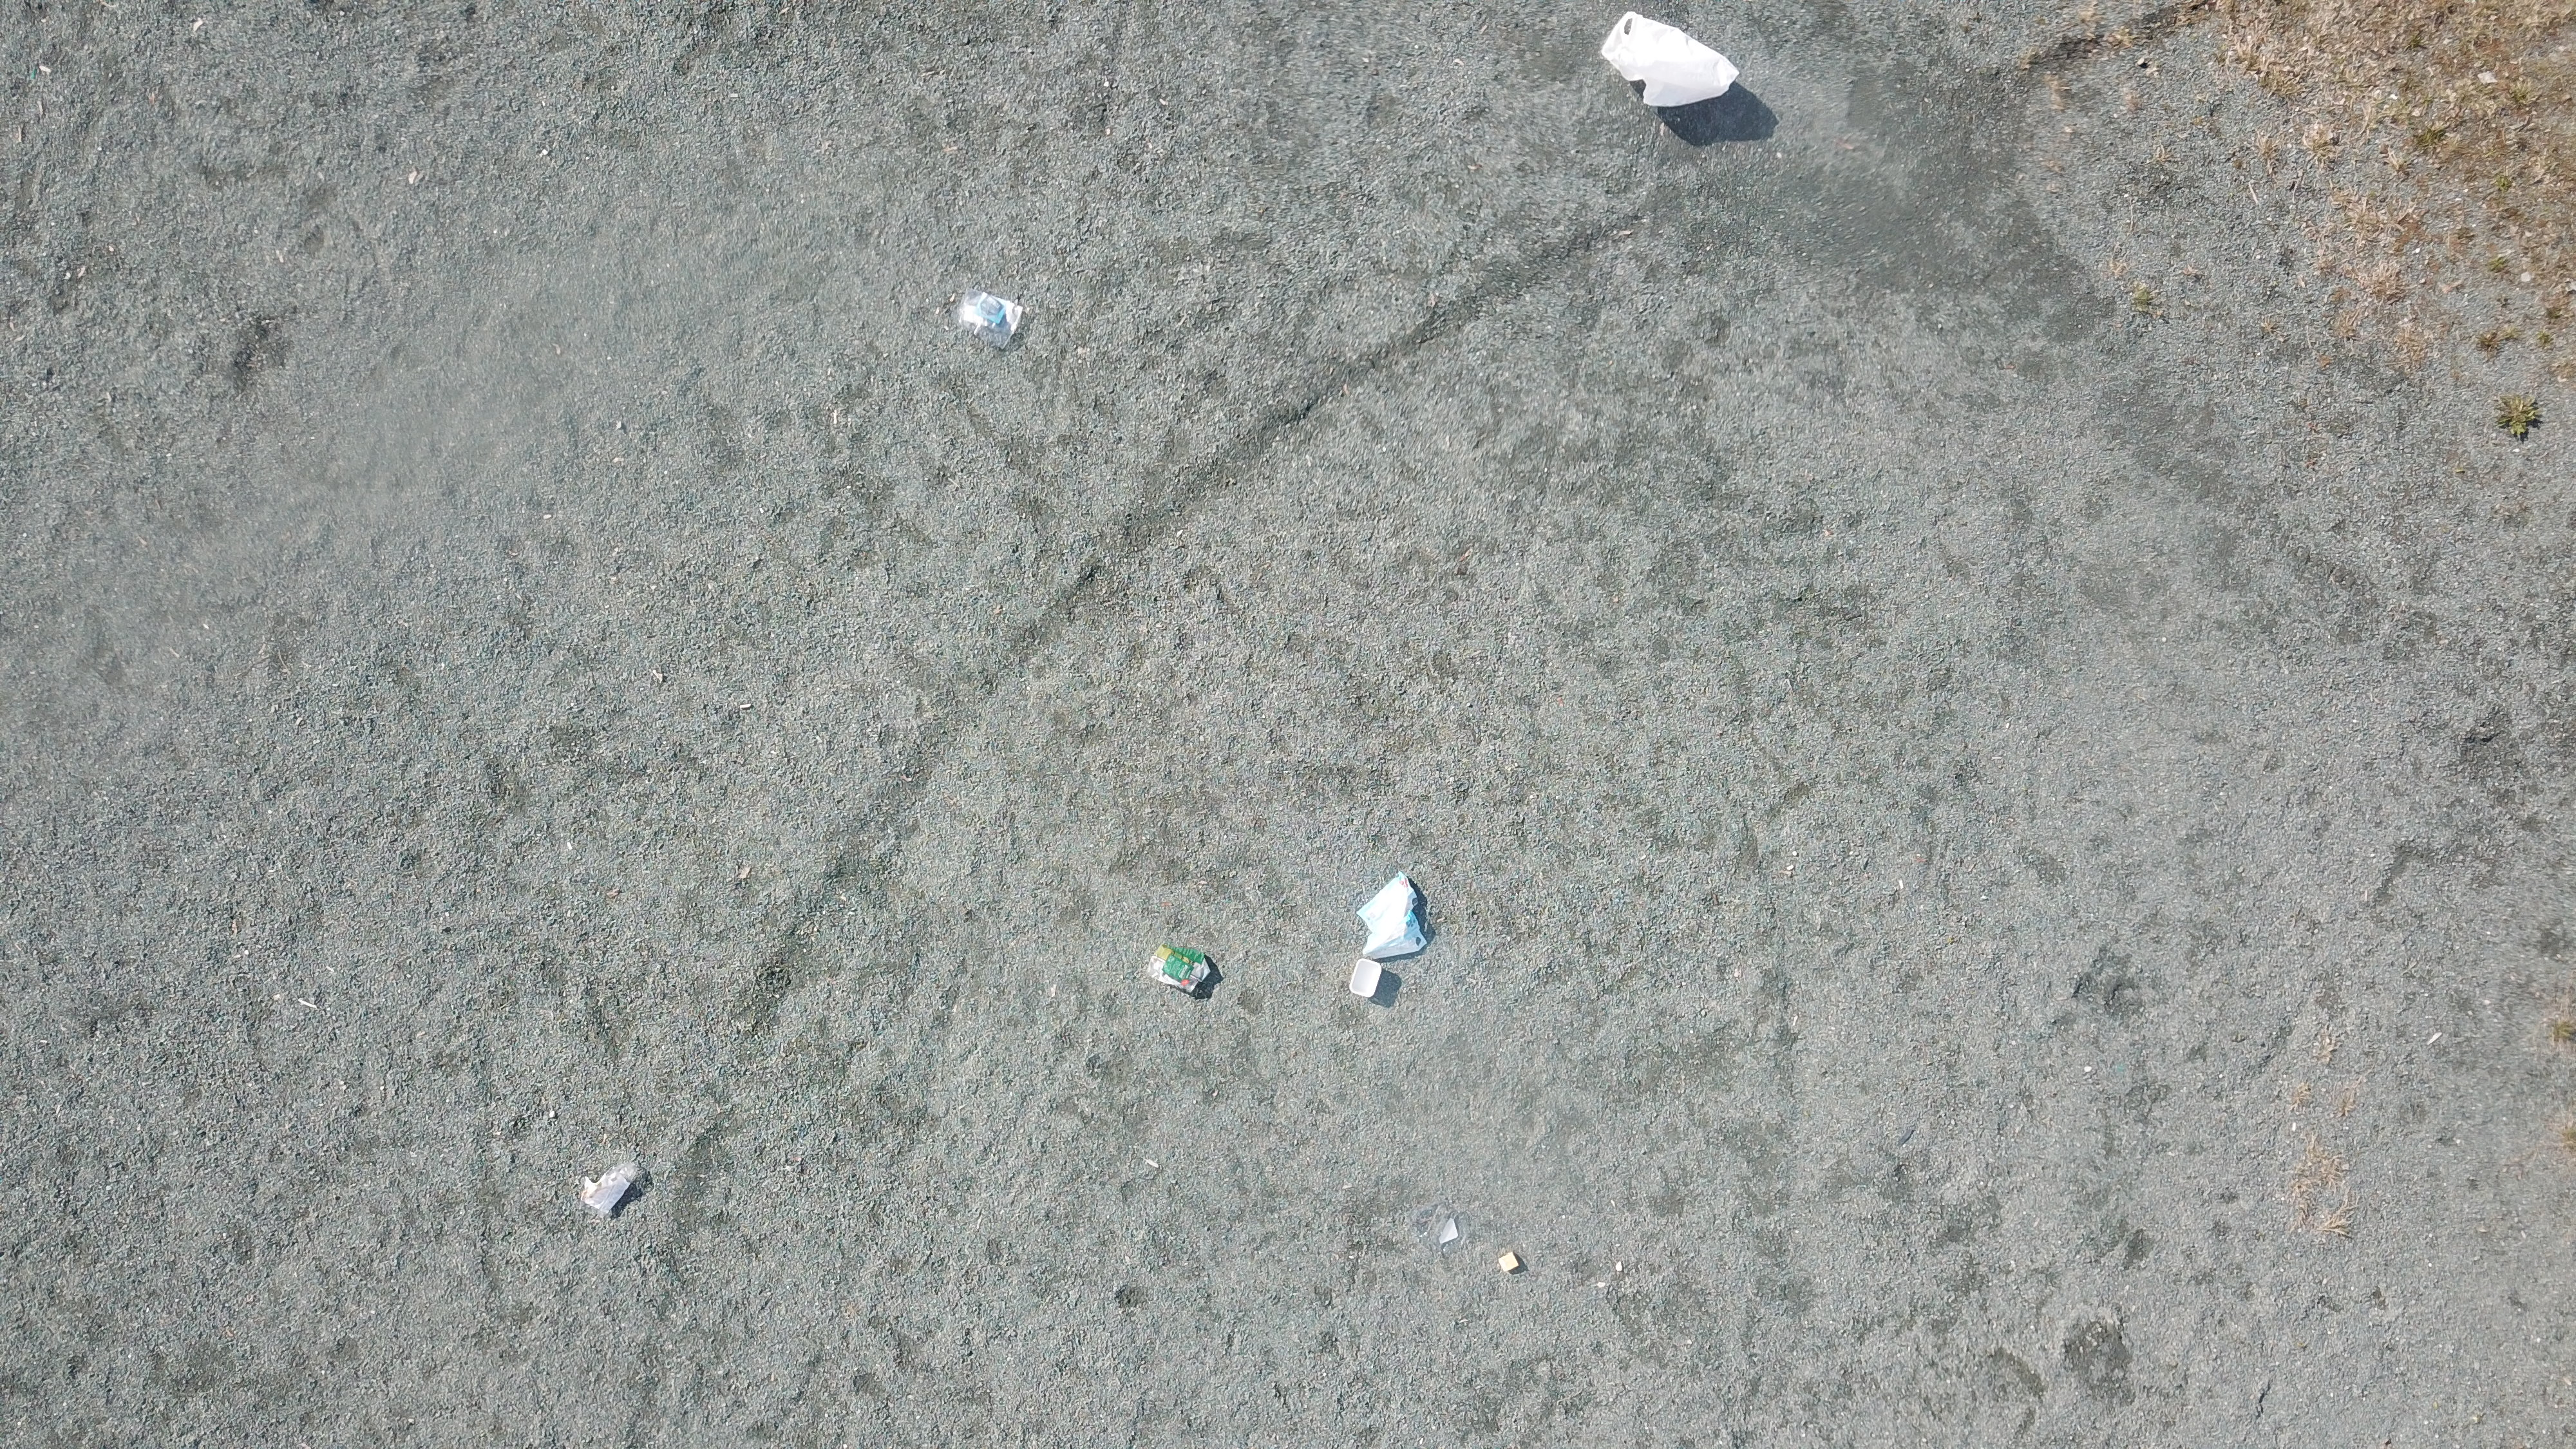Plastic: (1601, 12, 1741, 108), (1410, 1200, 1476, 1256), (961, 292, 1023, 349), (580, 1161, 644, 1215), (1357, 870, 1421, 924), (1148, 943, 1212, 993), (1366, 929, 1430, 961), (1350, 957, 1384, 996), (1497, 1251, 1522, 1272)
